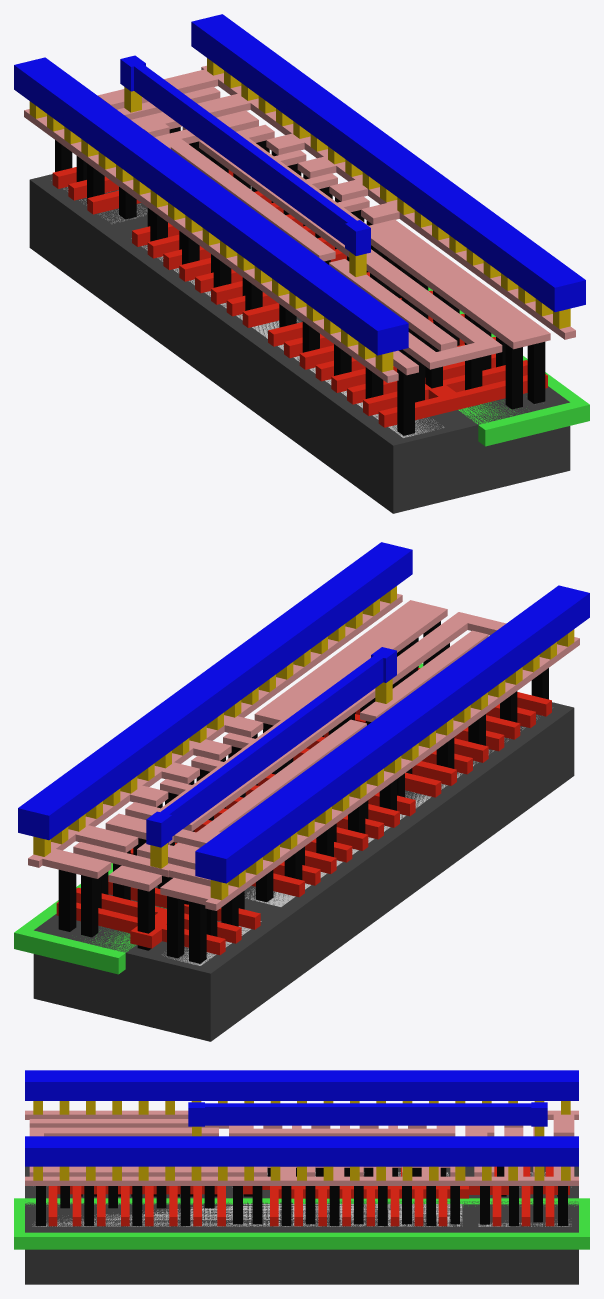
File: sky130_fd_sc_hd__ebufn_8.obj
3 renders of one model, top to bottom at view 1: azimuth 30°, elevation 25°; view 2: azimuth 150°, elevation 25°; view 3: azimuth 270°, elevation 25°, orthographic. The views are drawn at different scales.
Visible parts, largest first — view 1: metal1, subs, li, poly, licon, mcon, nwell, diff; view 2: metal1, subs, li, poly, licon, mcon, nwell, diff; view 3: metal1, subs, li, nwell, poly, licon, mcon, tap.
Boxes of the visible parts, x1,y1,x2,y2 form: metal1: (14,14,585,355); subs: (29,174,570,513); li: (24,65,575,382); poly: (52,167,547,427); licon: (55,127,545,435); mcon: (29,58,570,372); nwell: (428,287,589,446); diff: (51,180,444,437); metal1: (18,542,589,883); subs: (33,702,574,1041); li: (28,593,579,910); poly: (56,668,551,955); licon: (58,621,548,963); mcon: (33,586,574,900); nwell: (14,663,423,974); diff: (162,715,537,965); metal1: (25,1070,578,1166); subs: (25,1166,578,1284); li: (25,1110,578,1185); nwell: (14,1198,589,1249); poly: (48,1166,569,1226); licon: (36,1166,567,1225); mcon: (33,1101,570,1180); tap: (32,1204,571,1226).
Size of the model in its own units: 3.2 by 2.74 by 10.04.
